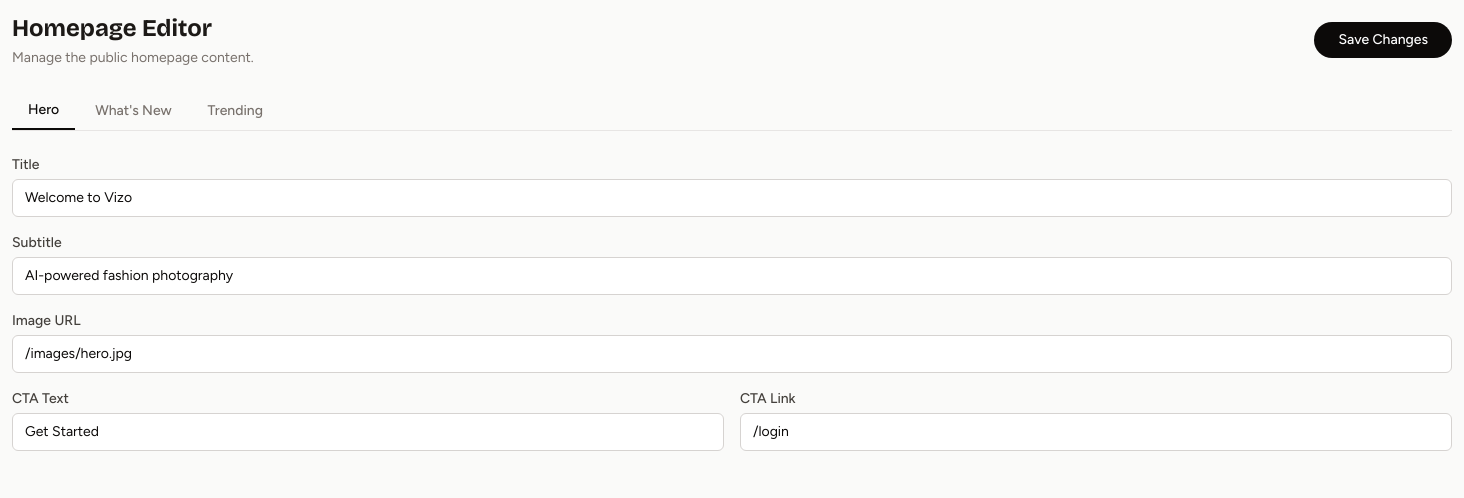
Test: HomepageEditor › adds and removes a whats new card
Click the button "What's New".
click(133, 111)  # box [79,92,188,130]
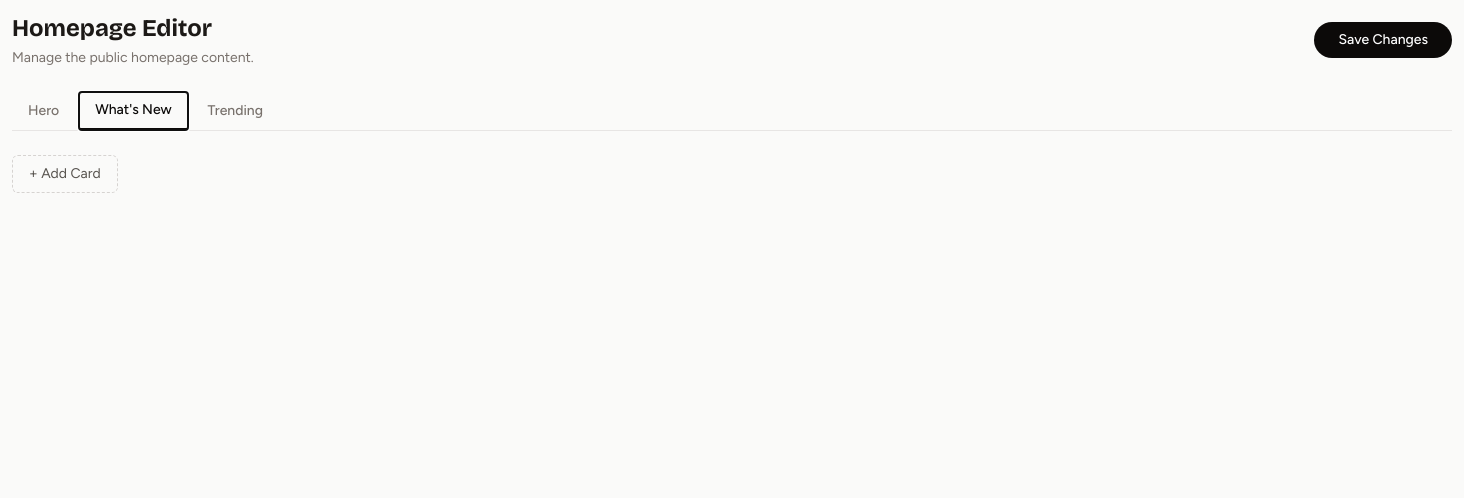
Click the button "+ Add Card".
click(65, 174)  # box [12,155,118,193]
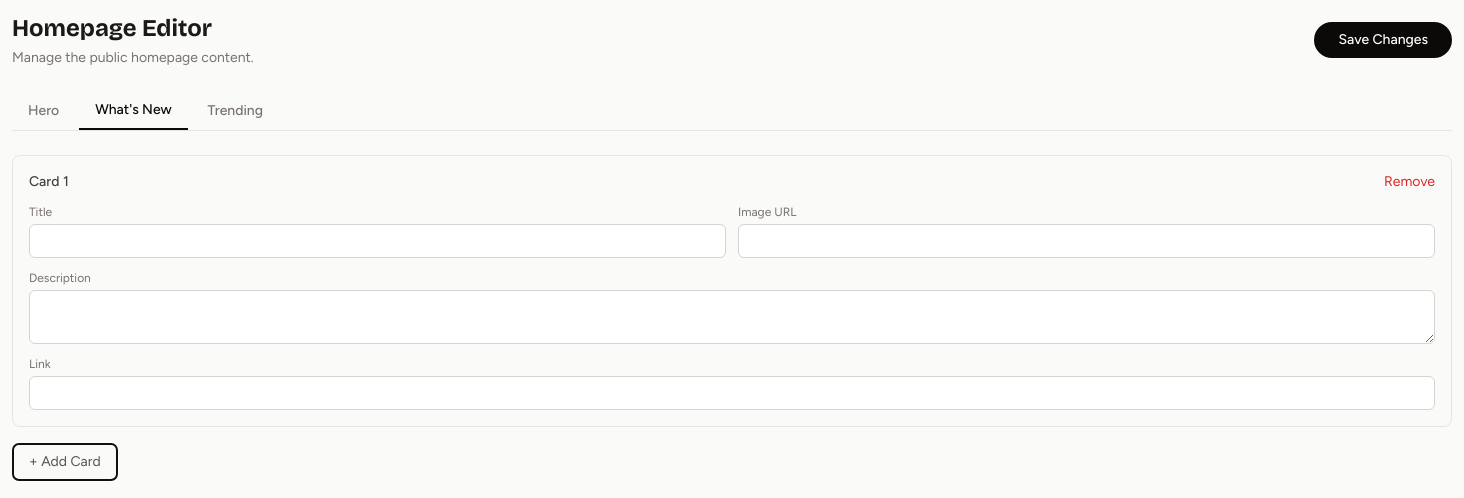
Expected: the text "Card 1" is shown, [29,172,69,192]
Click the button "Remove".
click(1410, 182)  # box [1384,172,1435,192]
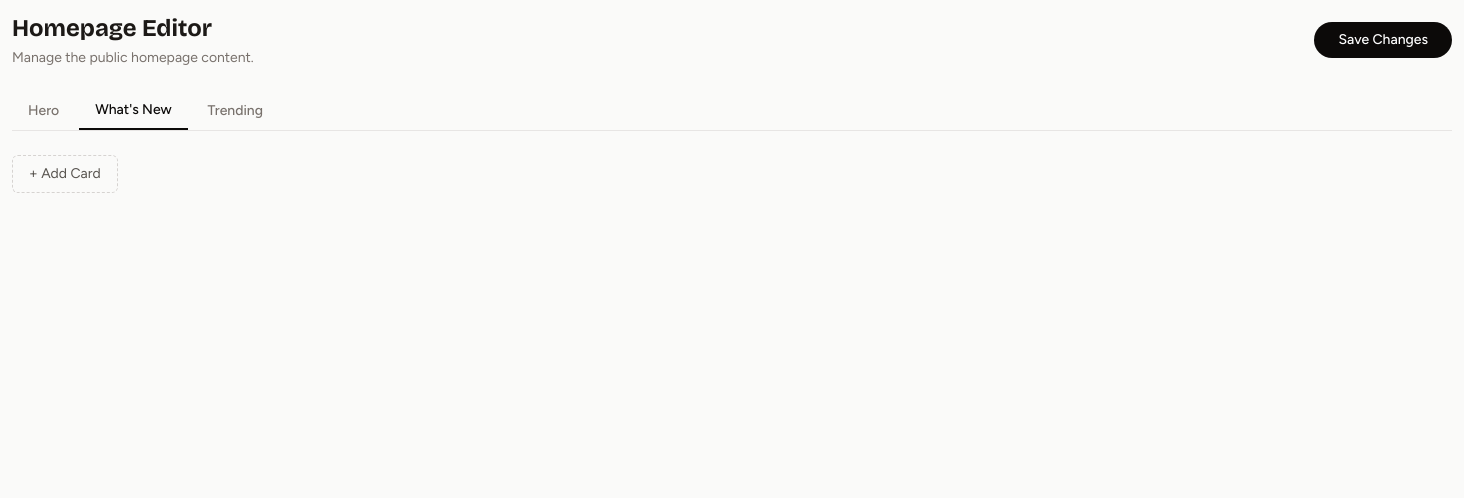
Expected: the text "Card 1" is gone
